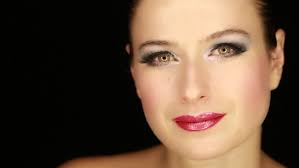white_female: (131, 18, 254, 134)
